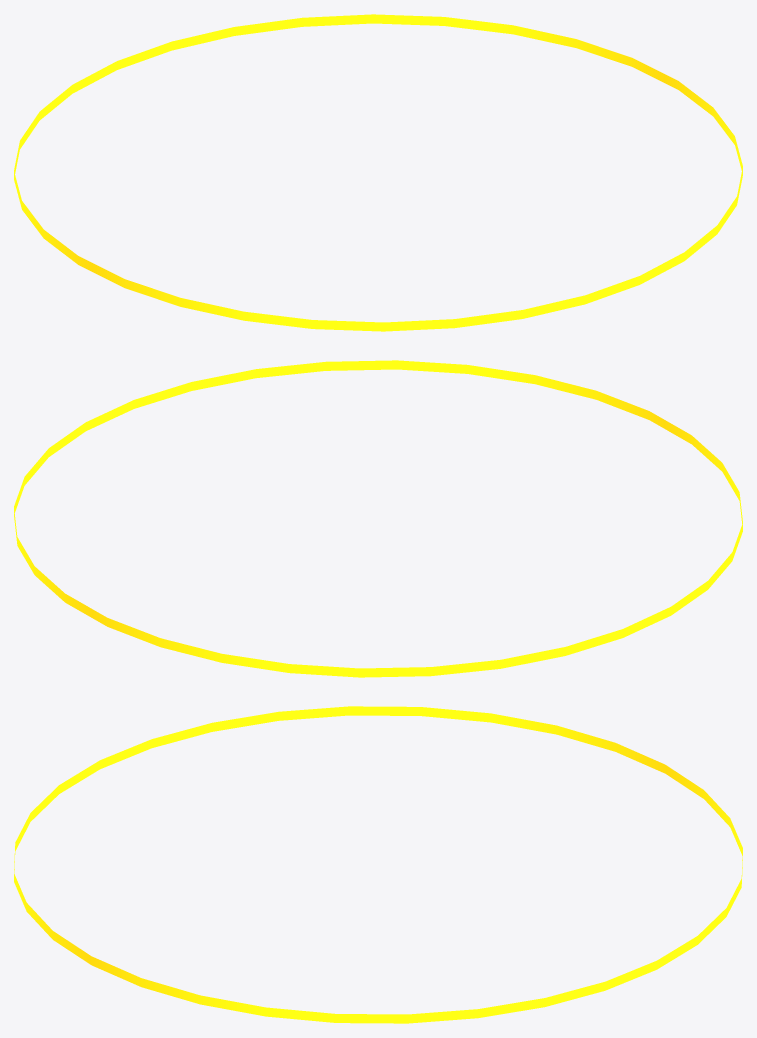
File: tentGame1ScrollLights.glb
3 views of the same model, one above another, from view 1: azimuth 30°, elevation 25°; view 2: azimuth 150°, elevation 25°; view 3: azimuth 270°, elevation 25° (orthographic).
Visible parts, largest first — view 1: tentGame1ScrollLights; view 2: tentGame1ScrollLights; view 3: tentGame1ScrollLights.
Boxes of the visible parts, x1,y1,x2,y2 form: tentGame1ScrollLights: (14, 14, 742, 331); tentGame1ScrollLights: (14, 360, 742, 677); tentGame1ScrollLights: (14, 706, 742, 1023).
Size of the model in its own units: 1.2 by 0.0166 by 1.2.
Materials: 1 (1 with a texture image).
